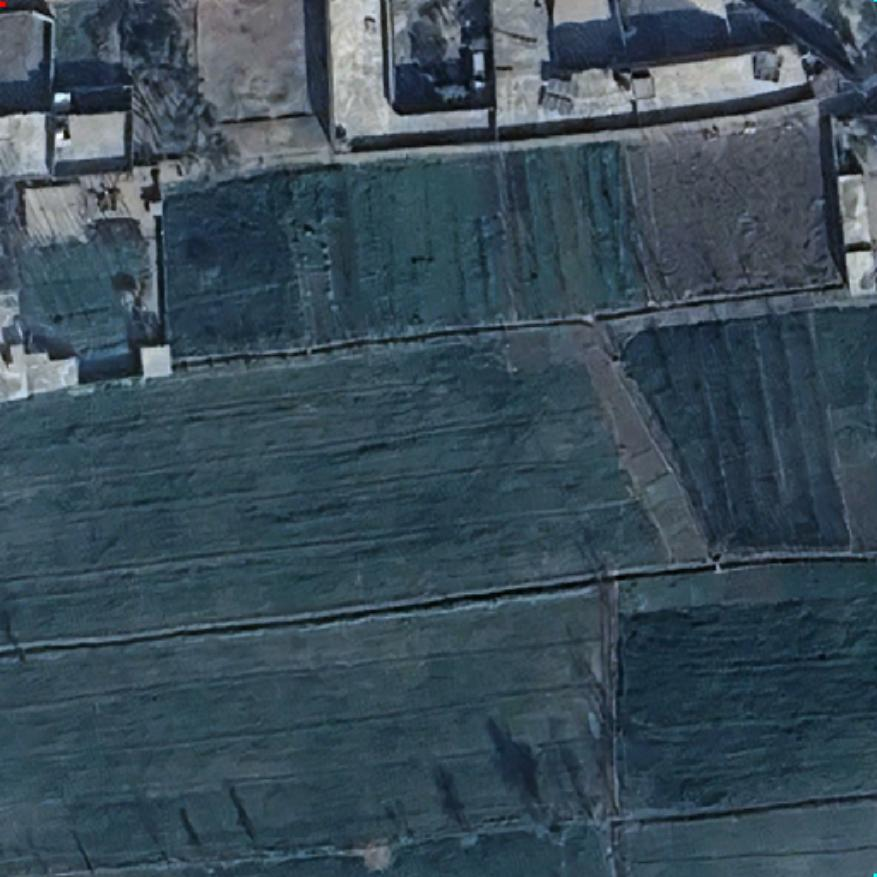Solarpanel: (536, 74, 582, 118), (749, 43, 782, 84)
